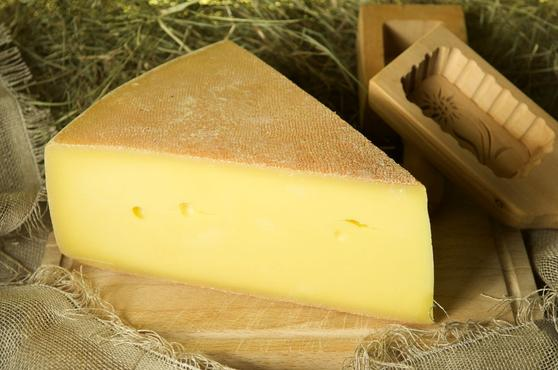cheese: (42, 32, 437, 320)
